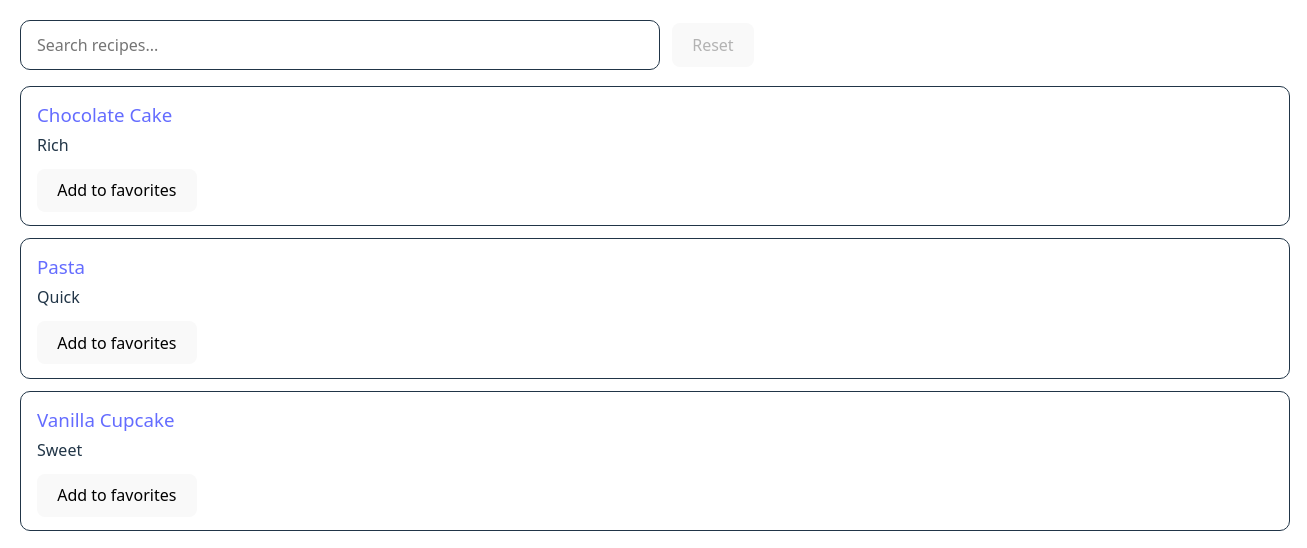
SearchBar + RecipeList integration › clearing the search shows all recipes again
The image size is (1307, 548).
Type "pasta" into the field labelled "Search recipes..." at point(340, 45), box [20, 20, 660, 70]
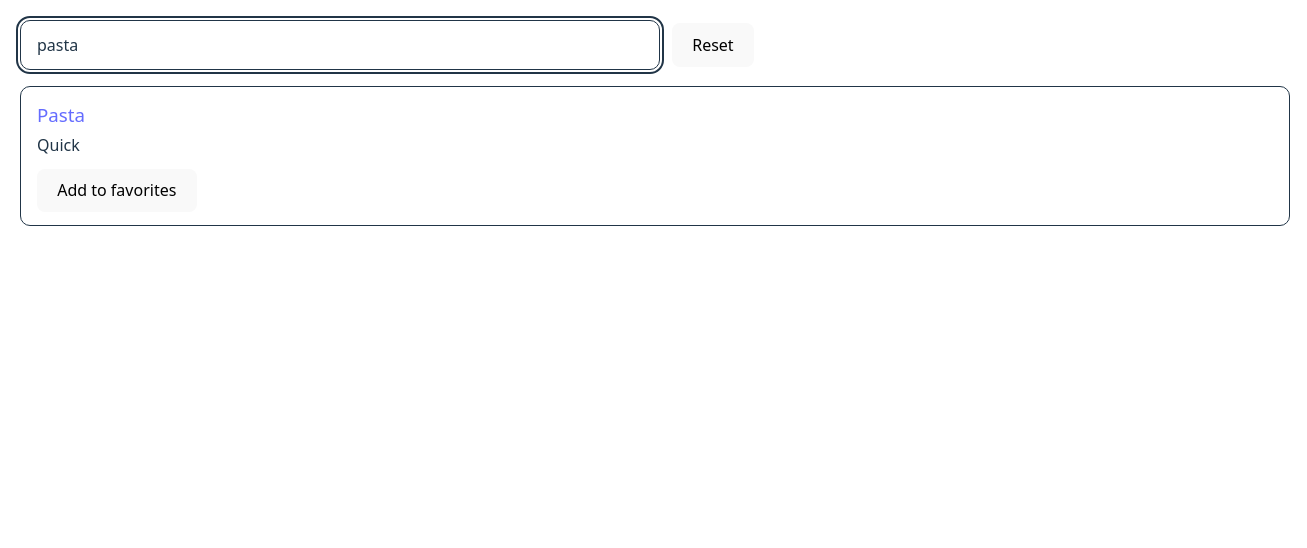
Expected: the link "Pasta" is shown, [37, 102, 85, 127]
Now the link "Chocolate Cake" is gone
Clear the field named "Search recipes" at point(340, 45), box [20, 20, 660, 70]
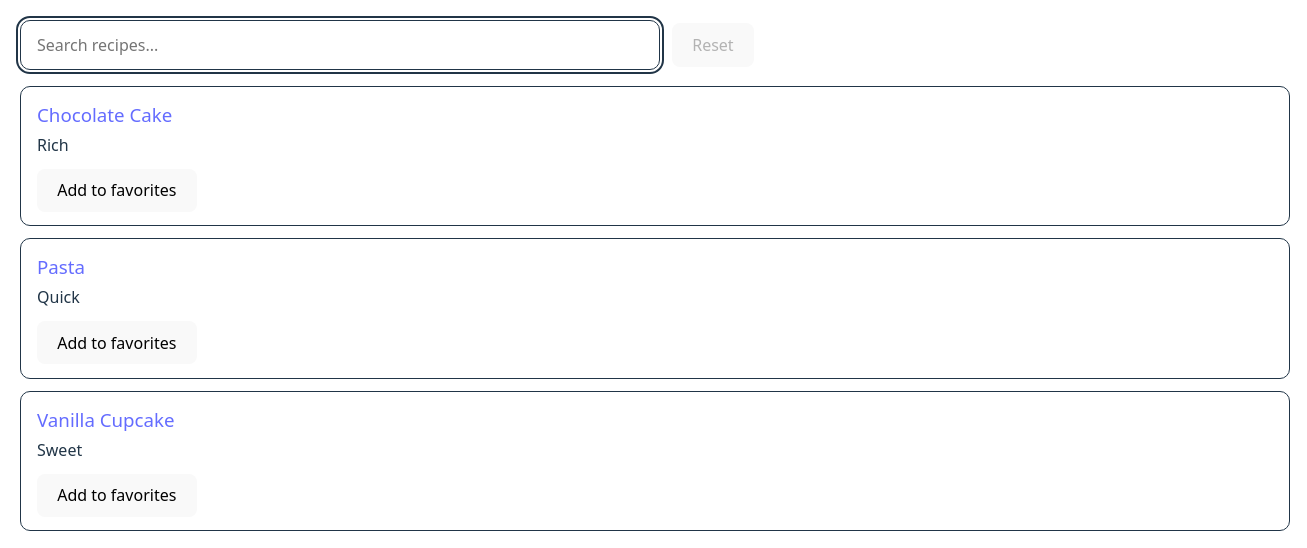
Expected: the link "Pasta" is shown, [37, 254, 85, 279]
Now the link "Chocolate Cake" is shown, box [37, 102, 172, 127]
Now the link "Vanilla Cupcake" is shown, box [37, 406, 175, 432]
